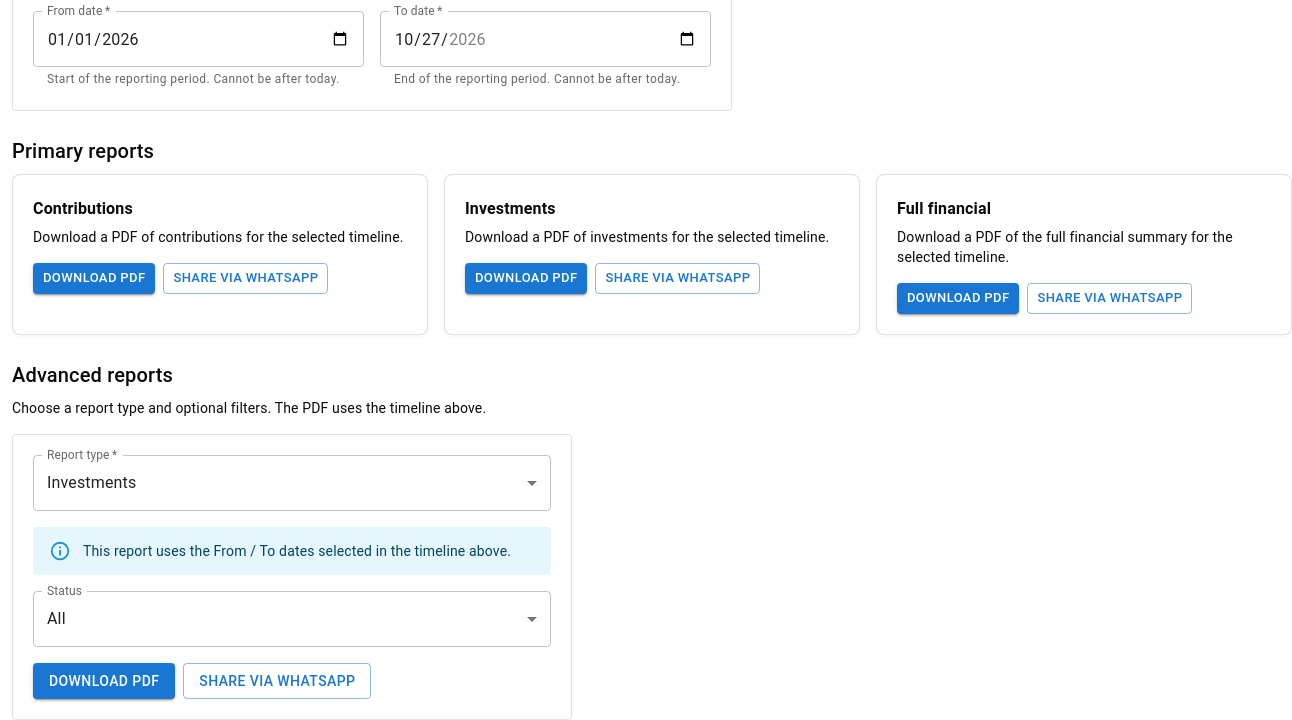
Test case: ReportsExportPanel filters › offers only the statuses that belong to the selected report type
(page scrolled)
Click the dropdown named "Status" at (56,619), box [47, 609, 66, 628]
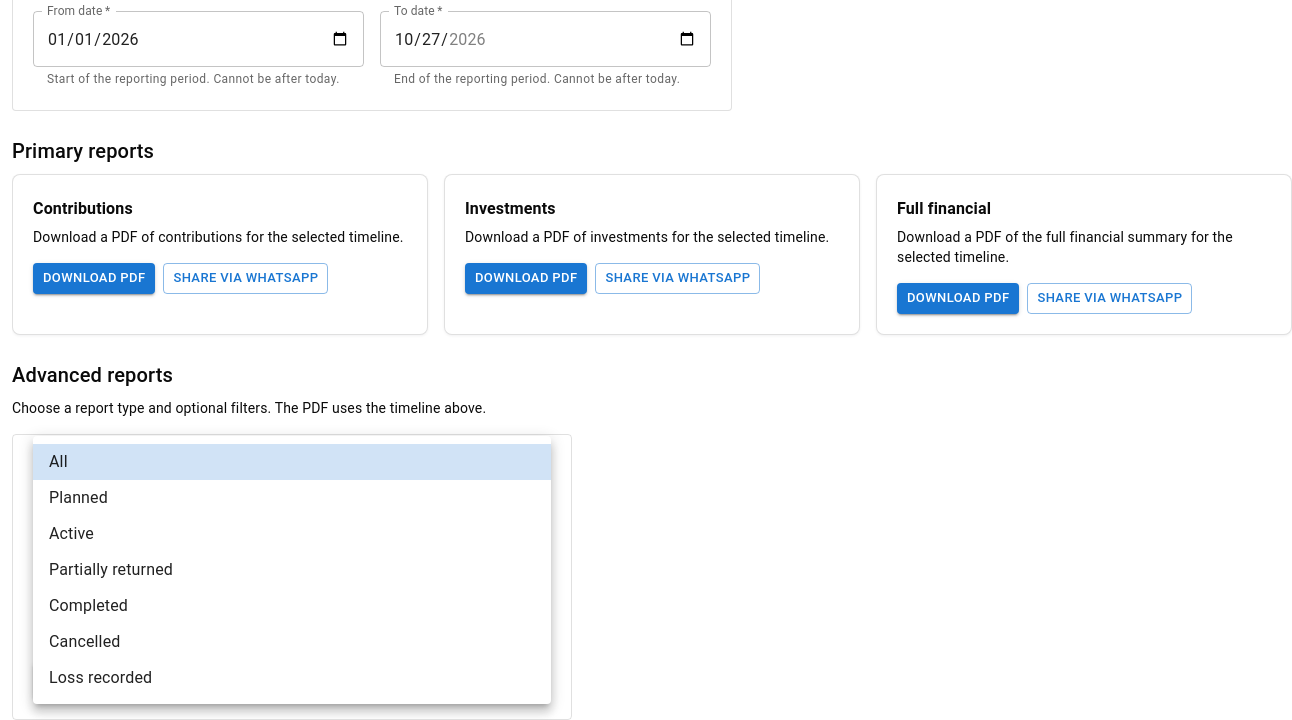
Expected: the option "Partially returned" is shown, [49, 560, 173, 579]
